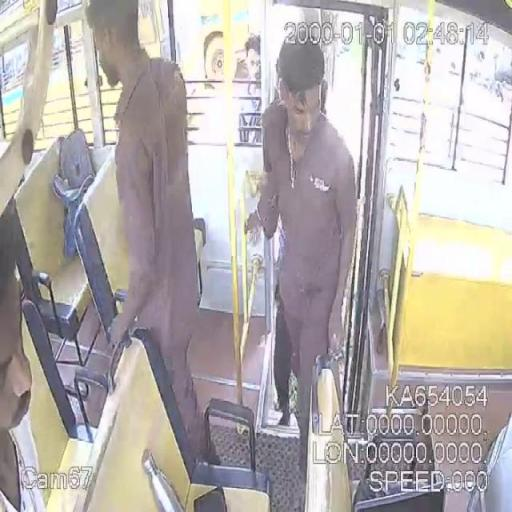persona: (242, 34, 360, 484), (83, 0, 201, 440), (1, 217, 51, 512)
